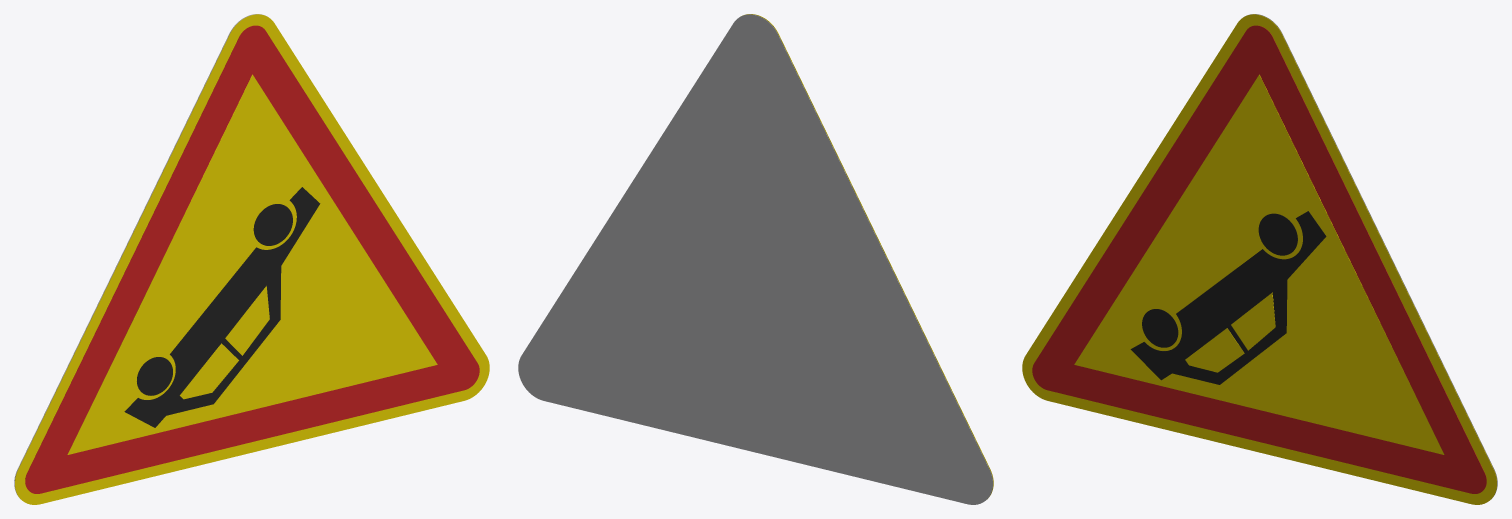
3 renders of one model, left to right at view 1: azimuth 30°, elevation 25°; view 2: azimuth 150°, elevation 25°; view 3: azimuth 330°, elevation 25°, orthographic.
Visible parts, largest first — view 1: AK31_p02, AK31_p01, AK31_p00, AK31_p04, AK31_p06, AK31_p05, AK31_p08, AK31_p07, AK31_dos; view 2: AK31_dos, AK31_p00; view 3: AK31_p02, AK31_p01, AK31_p00, AK31_p04, AK31_p06, AK31_p05, AK31_p08, AK31_p07, AK31_dos.
Boxes of the visible parts, bbox=[...] form: AK31_p02: bbox=[67, 74, 437, 454]; AK31_p01: bbox=[25, 25, 479, 493]; AK31_p00: bbox=[15, 14, 489, 504]; AK31_p04: bbox=[124, 187, 320, 427]; AK31_p06: bbox=[179, 343, 238, 399]; AK31_p05: bbox=[225, 286, 269, 355]; AK31_p08: bbox=[253, 204, 292, 245]; AK31_p07: bbox=[137, 357, 172, 395]; AK31_dos: bbox=[14, 14, 267, 499]; AK31_dos: bbox=[518, 14, 992, 504]; AK31_p00: bbox=[740, 14, 993, 499]; AK31_p02: bbox=[1074, 74, 1444, 454]; AK31_p01: bbox=[1032, 25, 1486, 493]; AK31_p00: bbox=[1022, 14, 1496, 504]; AK31_p04: bbox=[1130, 211, 1326, 384]; AK31_p06: bbox=[1185, 328, 1244, 372]; AK31_p05: bbox=[1231, 292, 1275, 350]; AK31_p08: bbox=[1258, 213, 1297, 255]; AK31_p07: bbox=[1142, 309, 1178, 347]; AK31_dos: bbox=[1244, 14, 1497, 499].
Bounding box in the file's own units: 0.7 × 0.6162 × 0.0051.
